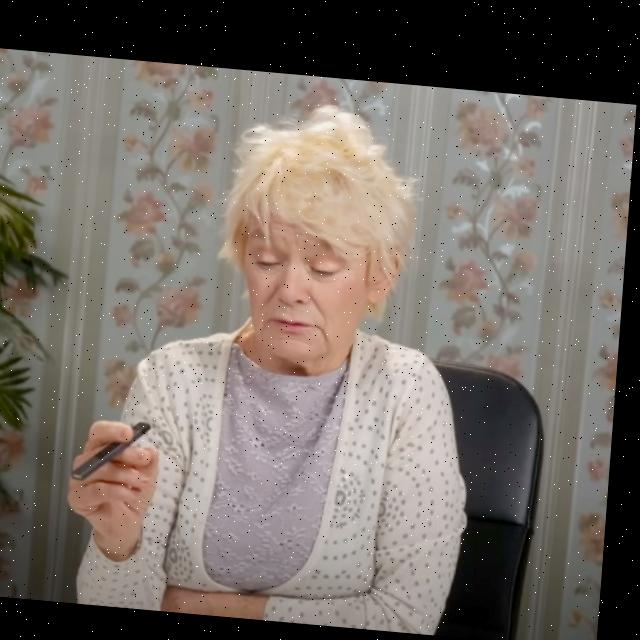vape: (78, 414, 159, 484)
